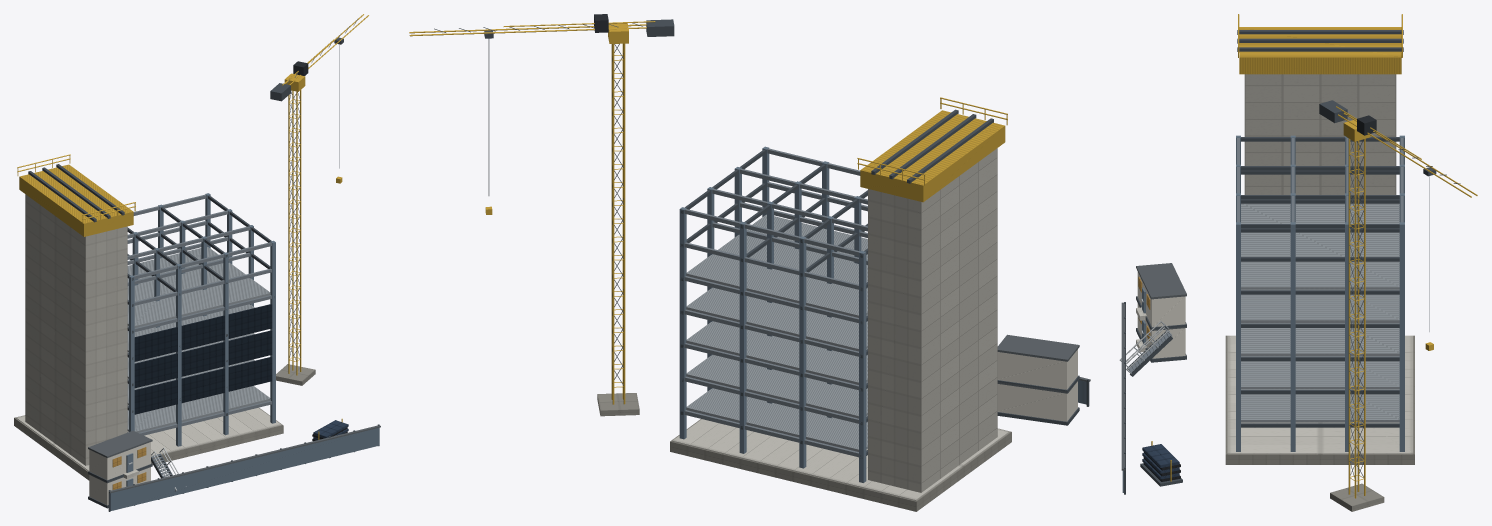
The model's file is el-2-construction.glb.
3 renders of one model, left to right at view 1: azimuth 30°, elevation 25°; view 2: azimuth 150°, elevation 25°; view 3: azimuth 270°, elevation 25°, orthographic. The views are drawn at different scales.
Size of the model in its own units: 47.56 by 35.26 by 29.33.
Materials: 23 (14 with a texture image).
